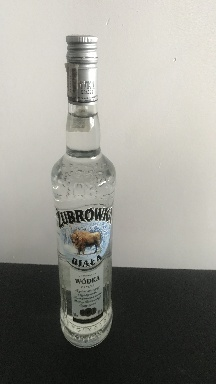butelka: (49, 31, 117, 351)
